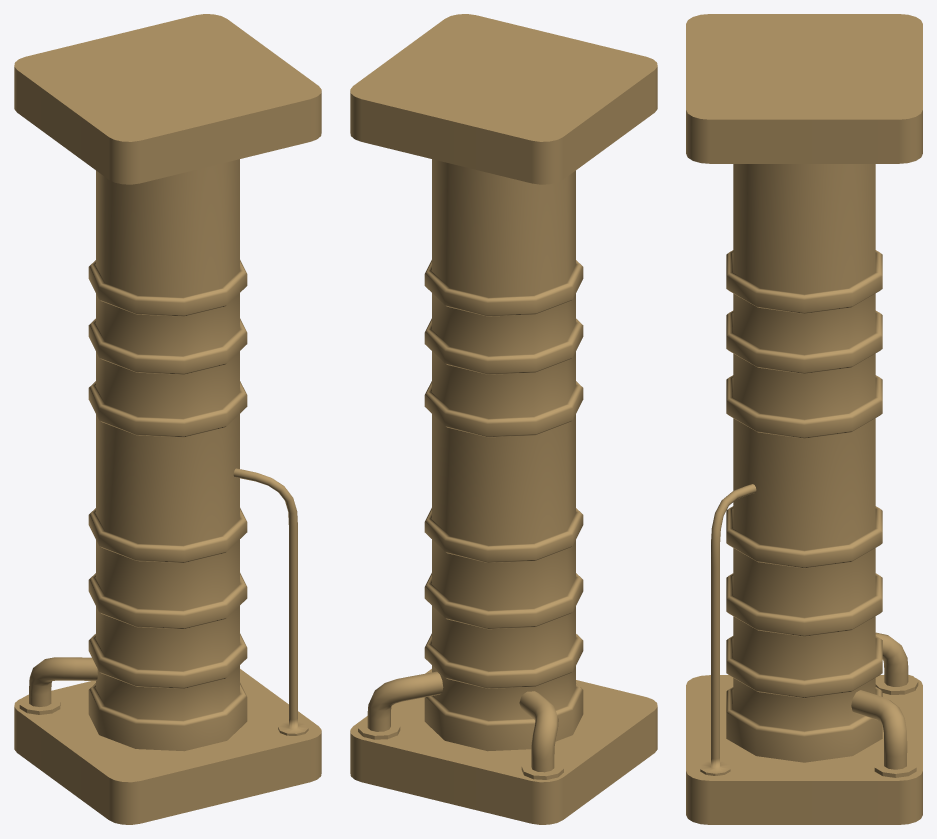
Rendered from Pillar.fbx.
3 renders of one model, left to right at view 1: azimuth 30°, elevation 25°; view 2: azimuth 150°, elevation 25°; view 3: azimuth 270°, elevation 25°, orthographic. The views are drawn at different scales.
Visible parts, largest first — view 1: pCylinder79, polySurface262, polySurface263, pCylinder84, pCylinder90; view 2: pCylinder79, polySurface262, polySurface263, pCylinder85, pCylinder90; view 3: pCylinder79, polySurface262, polySurface263, pCylinder84, pCylinder85, pCylinder90.
Boxes of the visible parts, x1=… form: pCylinder79: x1=88, y1=159, x2=247, y2=751; polySurface262: x1=14, y1=14, x2=321, y2=184; polySurface263: x1=14, y1=669, x2=321, y2=824; pCylinder84: x1=233, y1=468, x2=308, y2=735; pCylinder90: x1=19, y1=657, x2=97, y2=714; pCylinder79: x1=424, y1=159, x2=583, y2=751; polySurface262: x1=350, y1=14, x2=657, y2=184; polySurface263: x1=350, y1=669, x2=657, y2=824; pCylinder85: x1=358, y1=671, x2=443, y2=739; pCylinder90: x1=519, y1=691, x2=563, y2=779; pCylinder79: x1=726, y1=164, x2=882, y2=762; polySurface262: x1=686, y1=14, x2=922, y2=163; polySurface263: x1=686, y1=675, x2=922, y2=824; pCylinder84: x1=700, y1=484, x2=756, y2=775; pCylinder85: x1=851, y1=690, x2=916, y2=777; pCylinder90: x1=875, y1=632, x2=918, y2=694.
Bounding box in the file's own units: 220 × 686 × 209.
